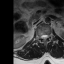CCS_normal: (43, 32, 45, 42)
LFS_normal: (48, 32, 50, 39)
LLS_normal: (45, 32, 48, 40)
RFS_normal: (38, 33, 41, 40)
RLS_normal: (41, 32, 43, 41)
